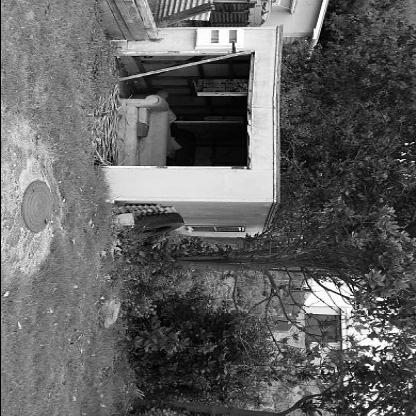manholes: (2, 174, 79, 242)
